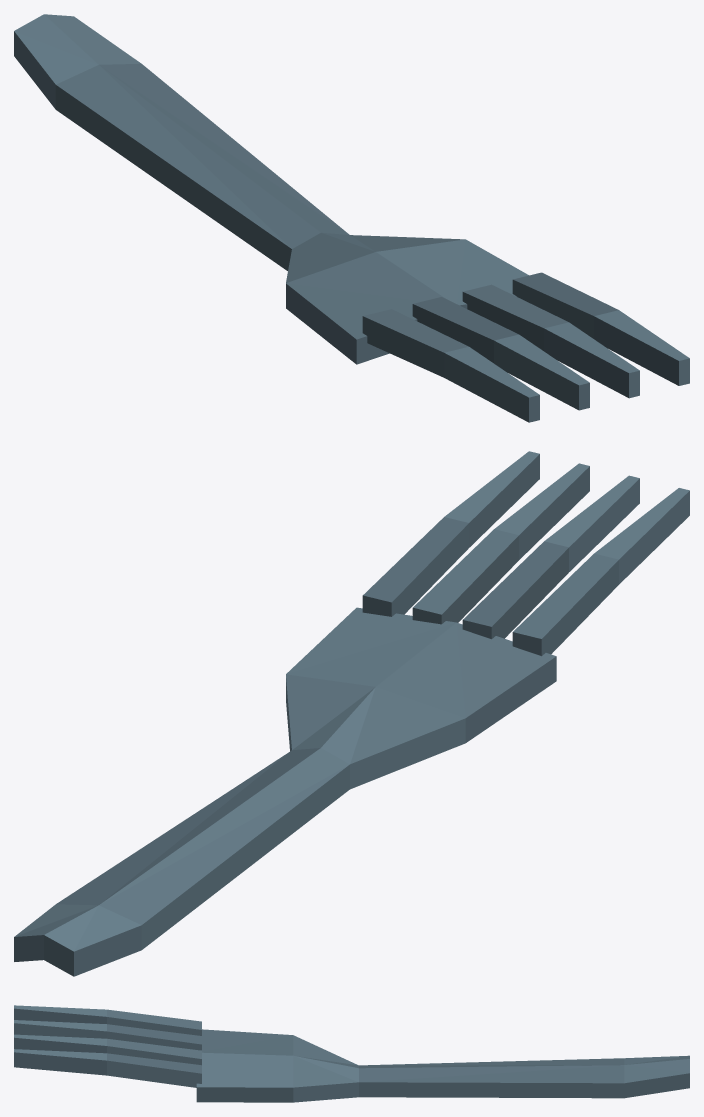
The model's file is ED_11_Four_Tine_Table_Fork.fbx.
3 renders of one model, top to bottom at view 1: azimuth 30°, elevation 25°; view 2: azimuth 150°, elevation 25°; view 3: azimuth 270°, elevation 25°, orthographic. The views are drawn at different scales.
Visible parts, largest first — view 1: ED_11_Four_Tine_Table_Fork; view 2: ED_11_Four_Tine_Table_Fork; view 3: ED_11_Four_Tine_Table_Fork.
Boxes of the visible parts, x1=… form: ED_11_Four_Tine_Table_Fork: x1=14, y1=14, x2=689, y2=422; ED_11_Four_Tine_Table_Fork: x1=14, y1=451, x2=689, y2=976; ED_11_Four_Tine_Table_Fork: x1=14, y1=1005, x2=689, y2=1102.
Bounding box in the file's own units: 0.4 × 0.192 × 1.96.
